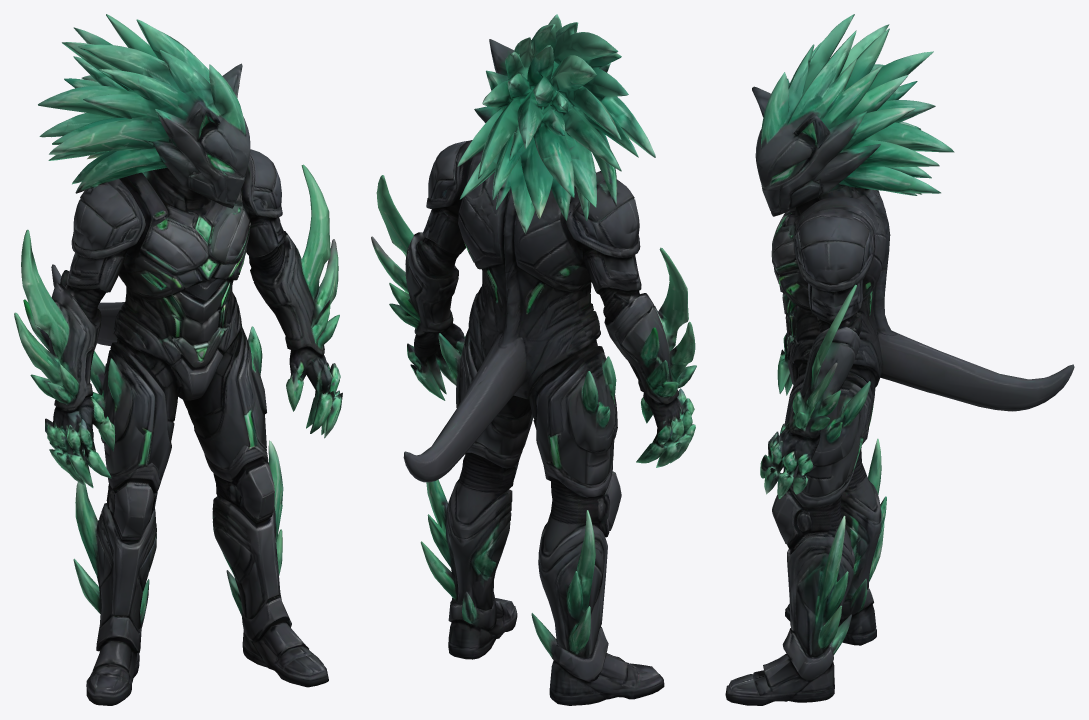
Rendered from ssanax.clean.glb.
The picture shows the model from 3 angles, left to right: view 1: azimuth 30°, elevation 25°; view 2: azimuth 150°, elevation 25°; view 3: azimuth 270°, elevation 25°; orthographic projection. The views are drawn at different scales.
Parts seen in each view (by area): view 1: node_0; view 2: node_0; view 3: node_0.
Boxes of the visible parts, <box> form: node_0: <box>14,14,342,705</box>; node_0: <box>371,14,696,705</box>; node_0: <box>725,14,1074,705</box>.
Bounding box in the file's own units: 0.9186 × 1.8 × 0.9242.
Materials: 1 (1 with a texture image).
